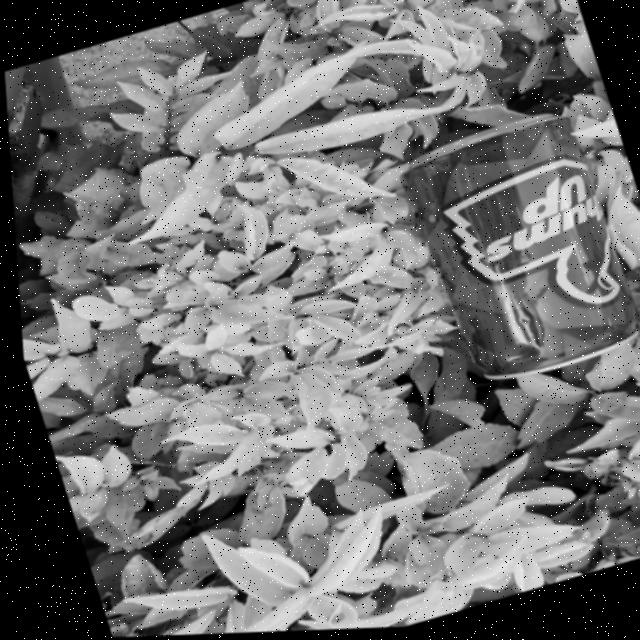Thums Up: (389, 105, 640, 396)
